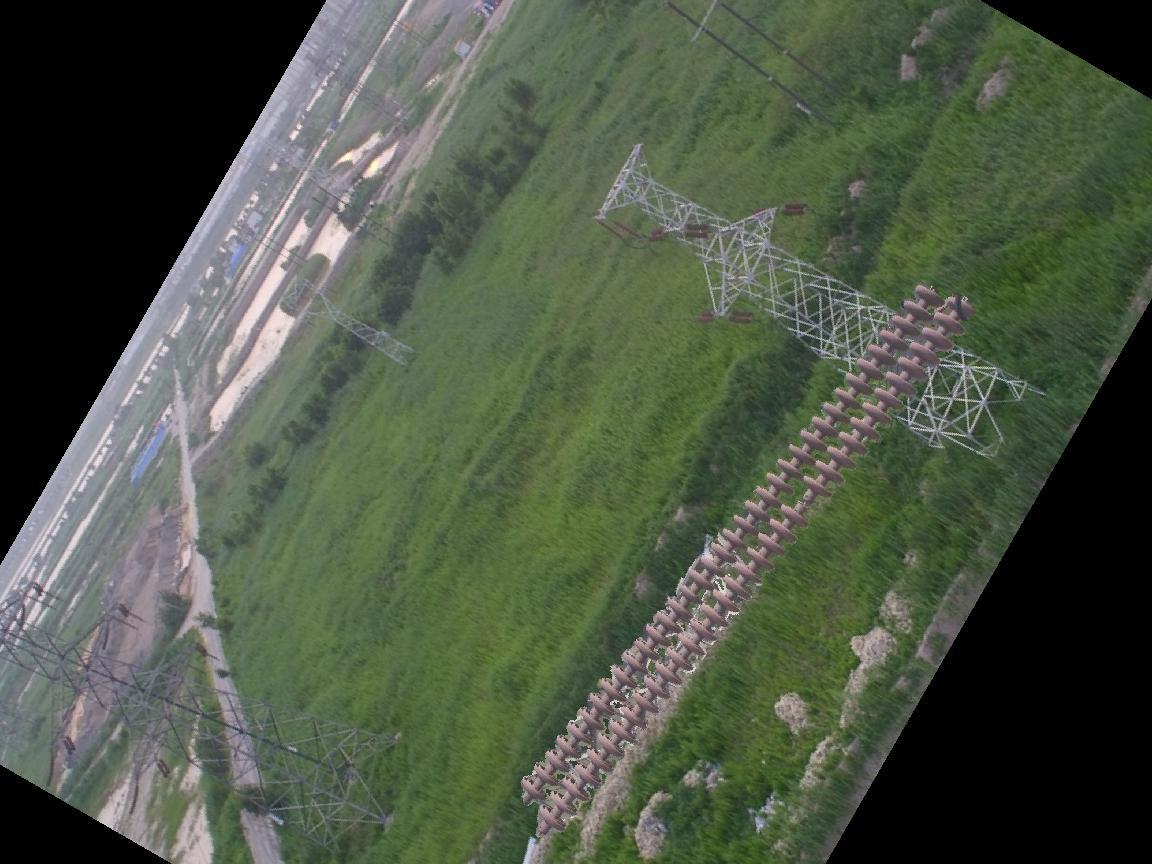insulator: (513, 277, 978, 836)
insulator_stringdrop: (777, 474, 834, 528)
